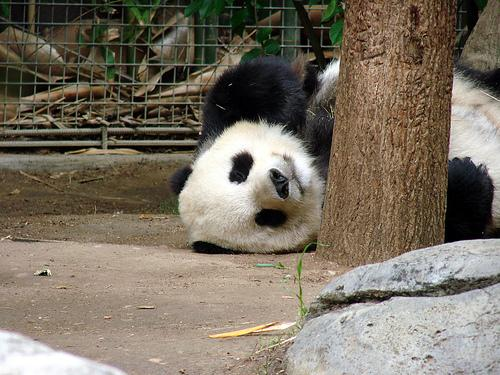panda: (170, 57, 339, 251), (446, 71, 499, 240)
